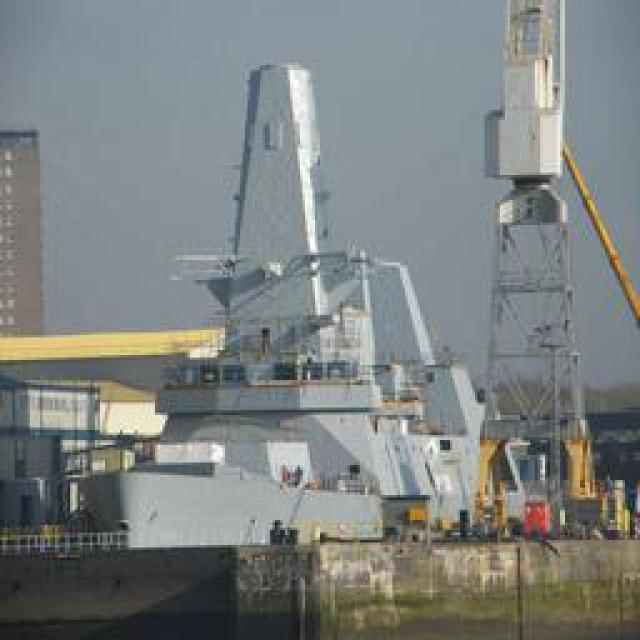Ship: (98, 51, 584, 551)
